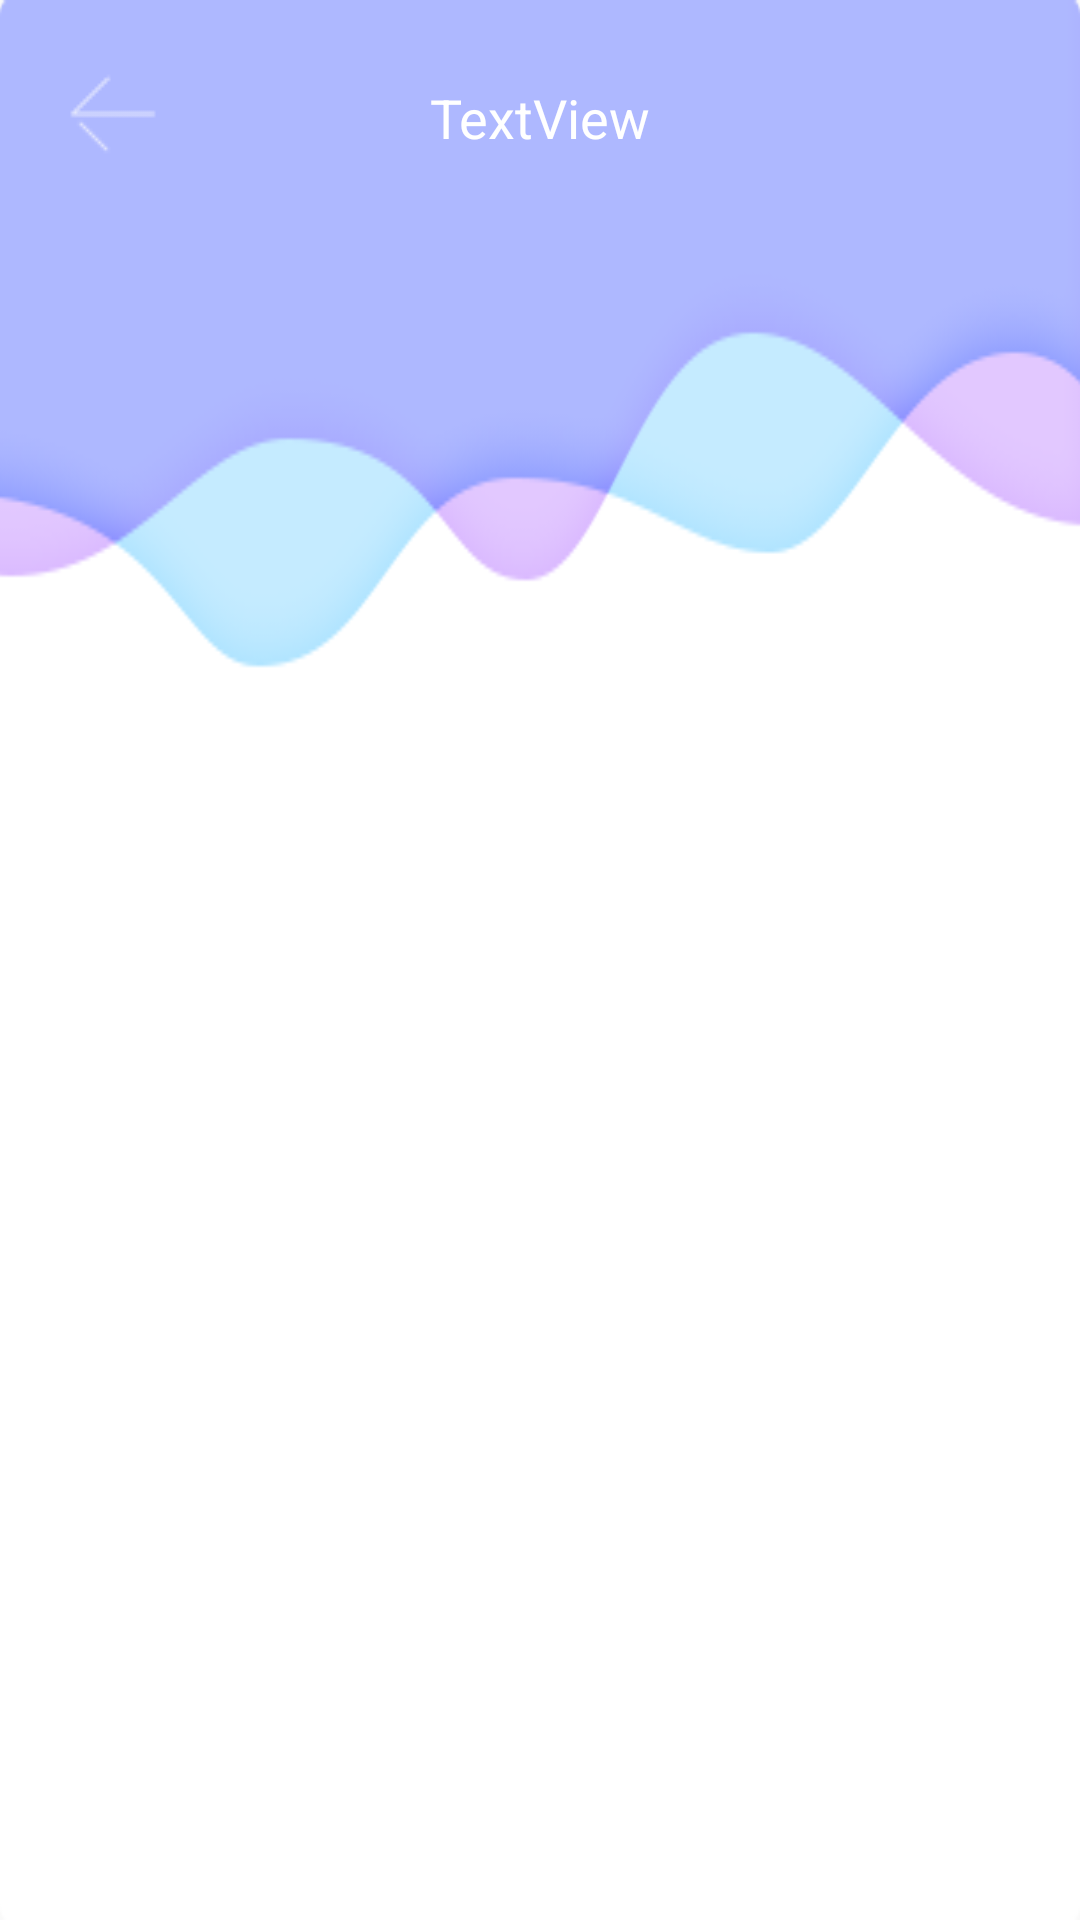

Point at icon controls on the screen. Image size 1080x1920, points as point (x, y).
back: point (113, 114)
